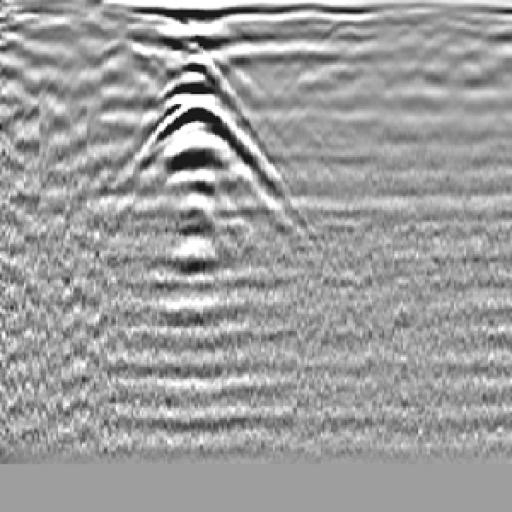metalic: (103, 42, 286, 241)
